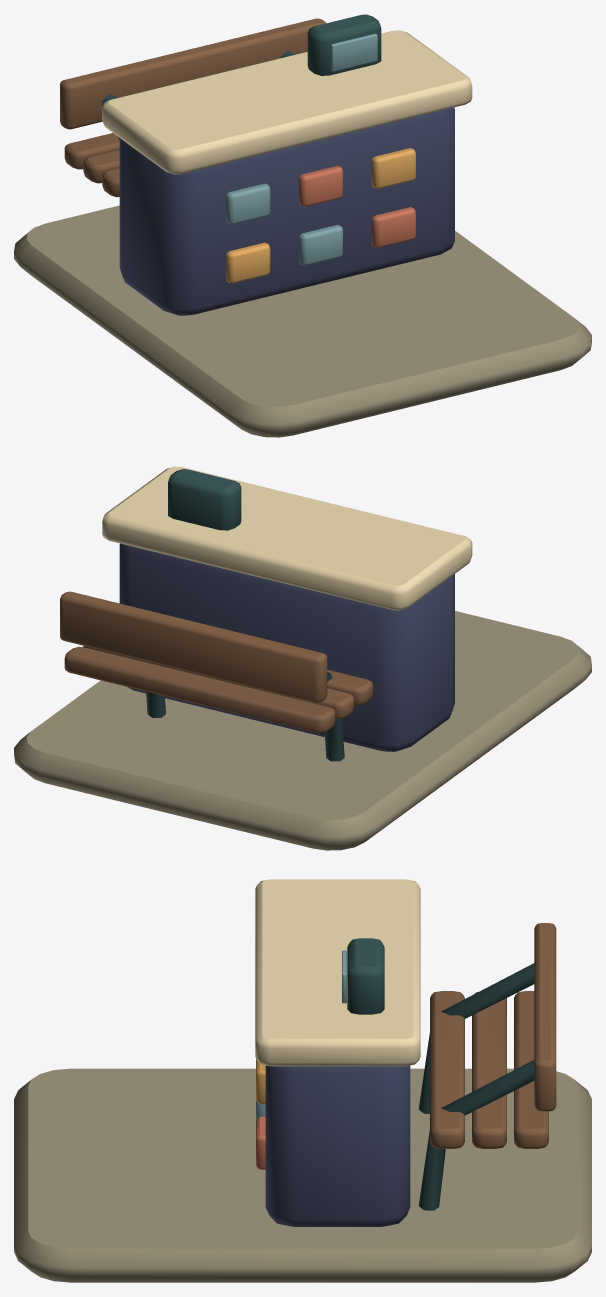
The model's file is japan_restaurant_1.glb.
The picture shows the model from 3 angles, top to bottom: view 1: azimuth 30°, elevation 25°; view 2: azimuth 150°, elevation 25°; view 3: azimuth 270°, elevation 25°; orthographic projection. The views are drawn at different scales.
Parts seen in each view (by area): view 1: JapanRestaurant1; view 2: JapanRestaurant1; view 3: JapanRestaurant1.
Part boxes in pixels (x1,y1,x2,y2): JapanRestaurant1: [14, 14, 591, 437]; JapanRestaurant1: [14, 466, 591, 850]; JapanRestaurant1: [14, 879, 591, 1282].
Bounding box in the file's own units: 1.95 × 1.32 × 2.48.
